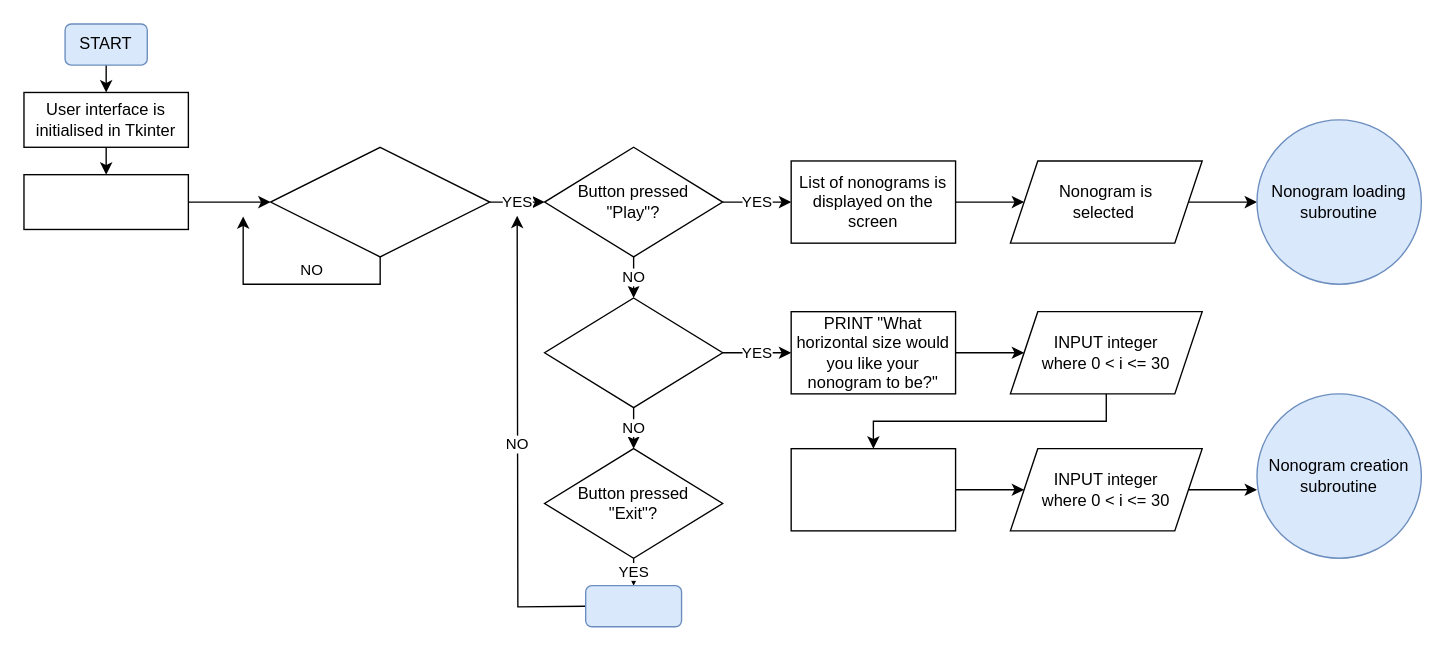
This 1445x651 diagram has some shape labels left out. The shapes that lost their labels are listed below. From the top down, each one's centre as x and y in pixels, then its label:
pixel 105 201: Main menu interface
pixel 379 201: Main menu button pressed?
pixel 633 352: Button pressed "Create"?
pixel 873 489: PRINT "What vertical size would you like your nonogram to be?"
pixel 633 605: END
